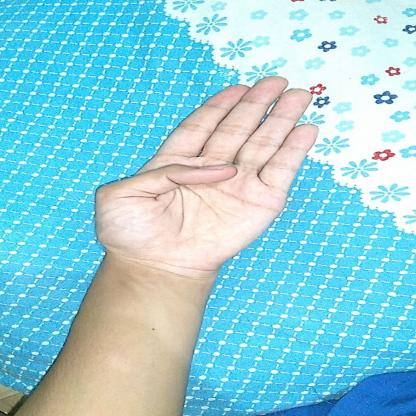hand: (0, 63, 399, 416)
